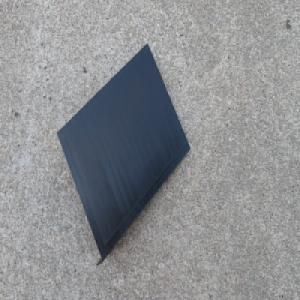PlasticPart: (56, 42, 190, 262)
